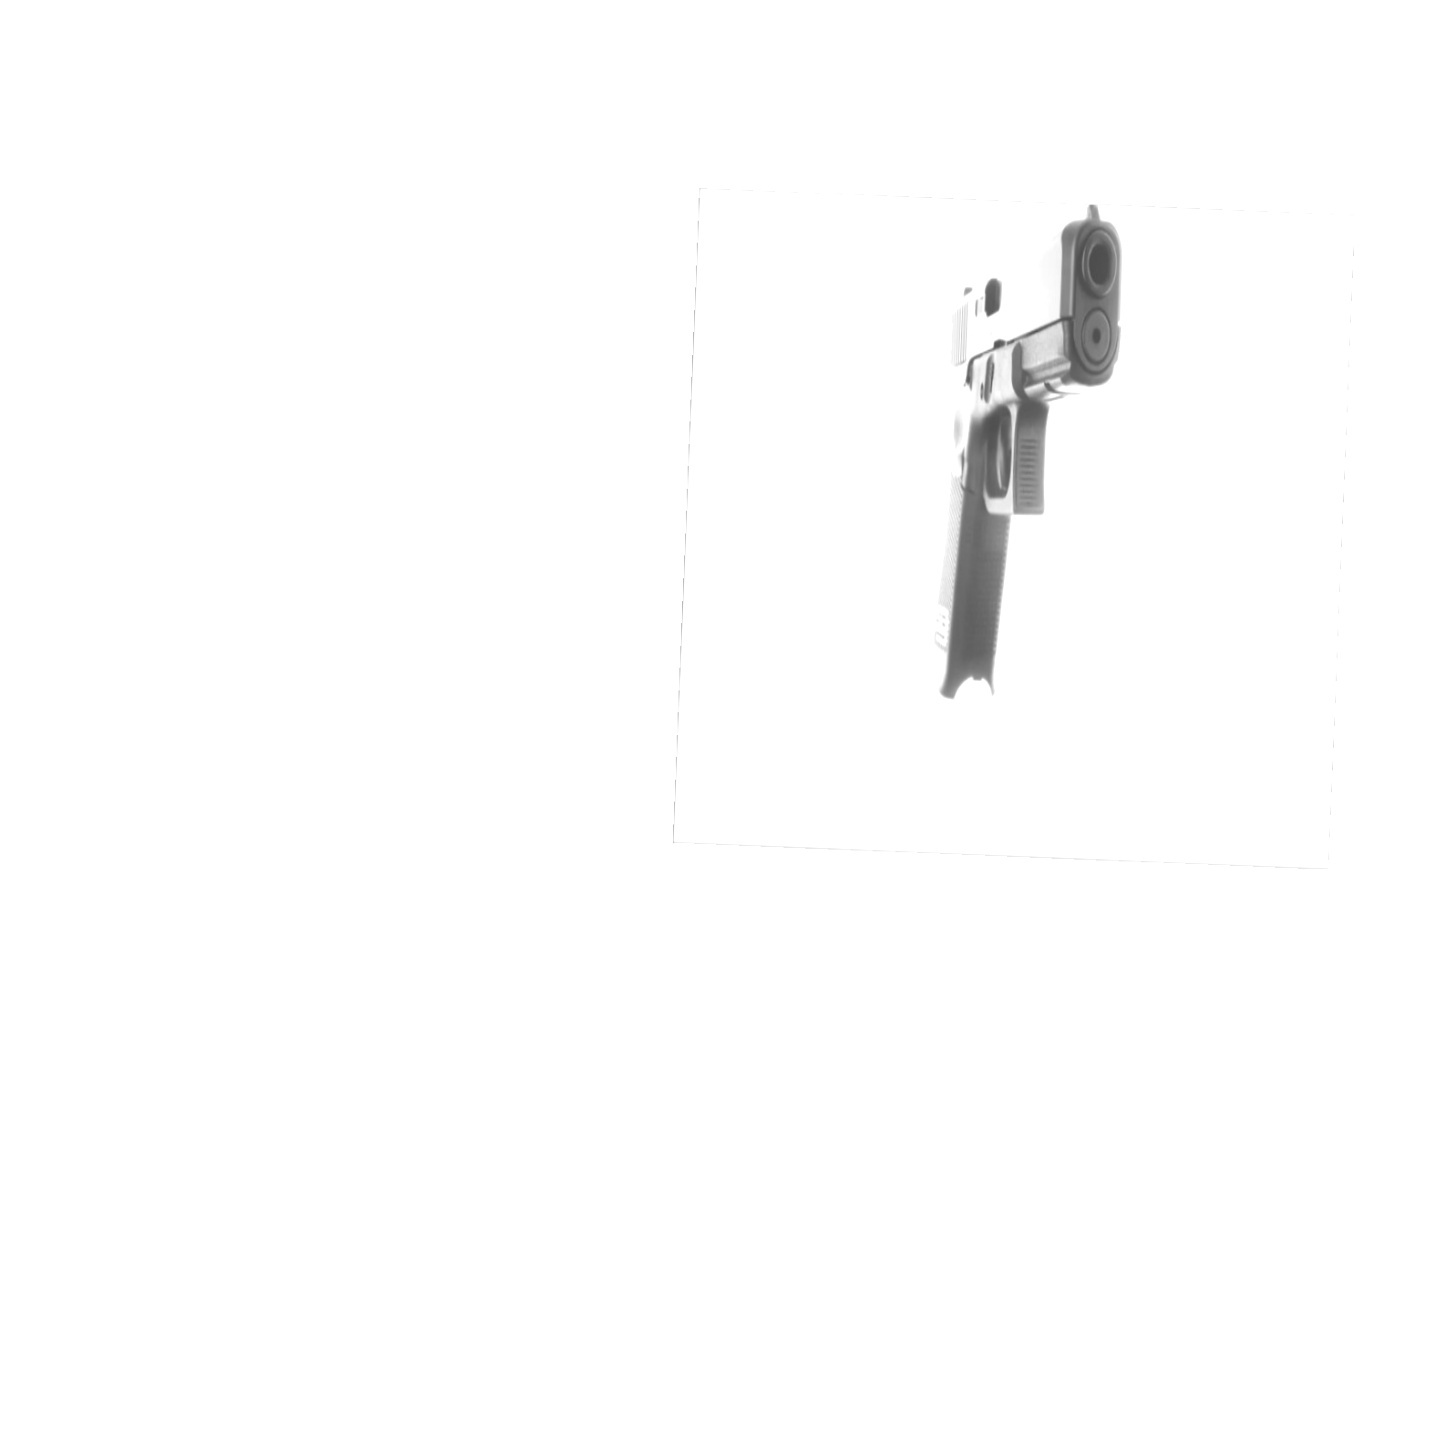gun: (928, 203, 1121, 699)
